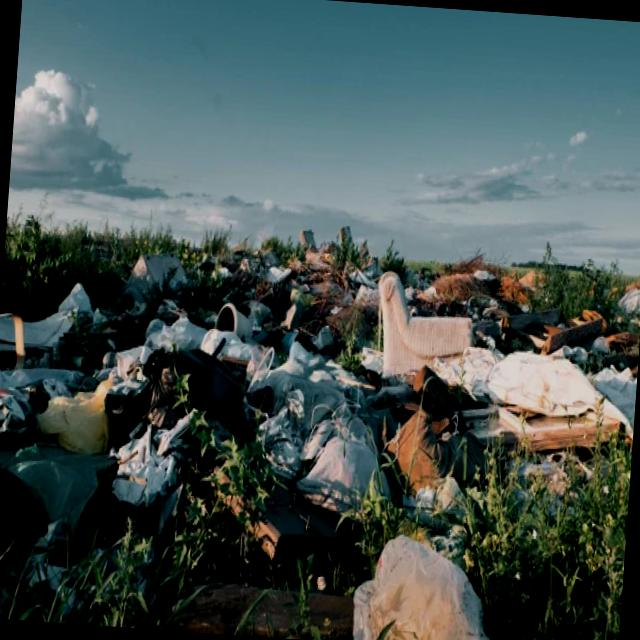garbage: (42, 190, 595, 636)
